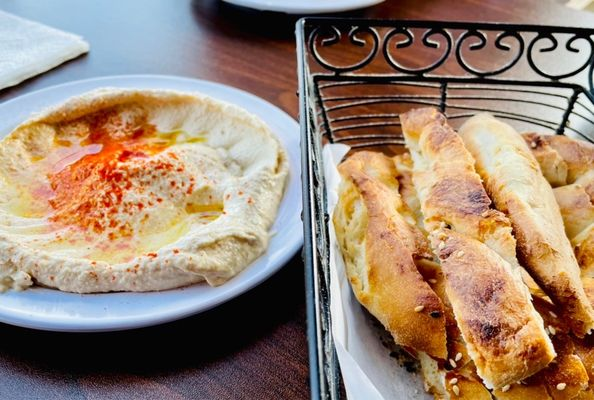soup: (332, 104, 594, 396)
